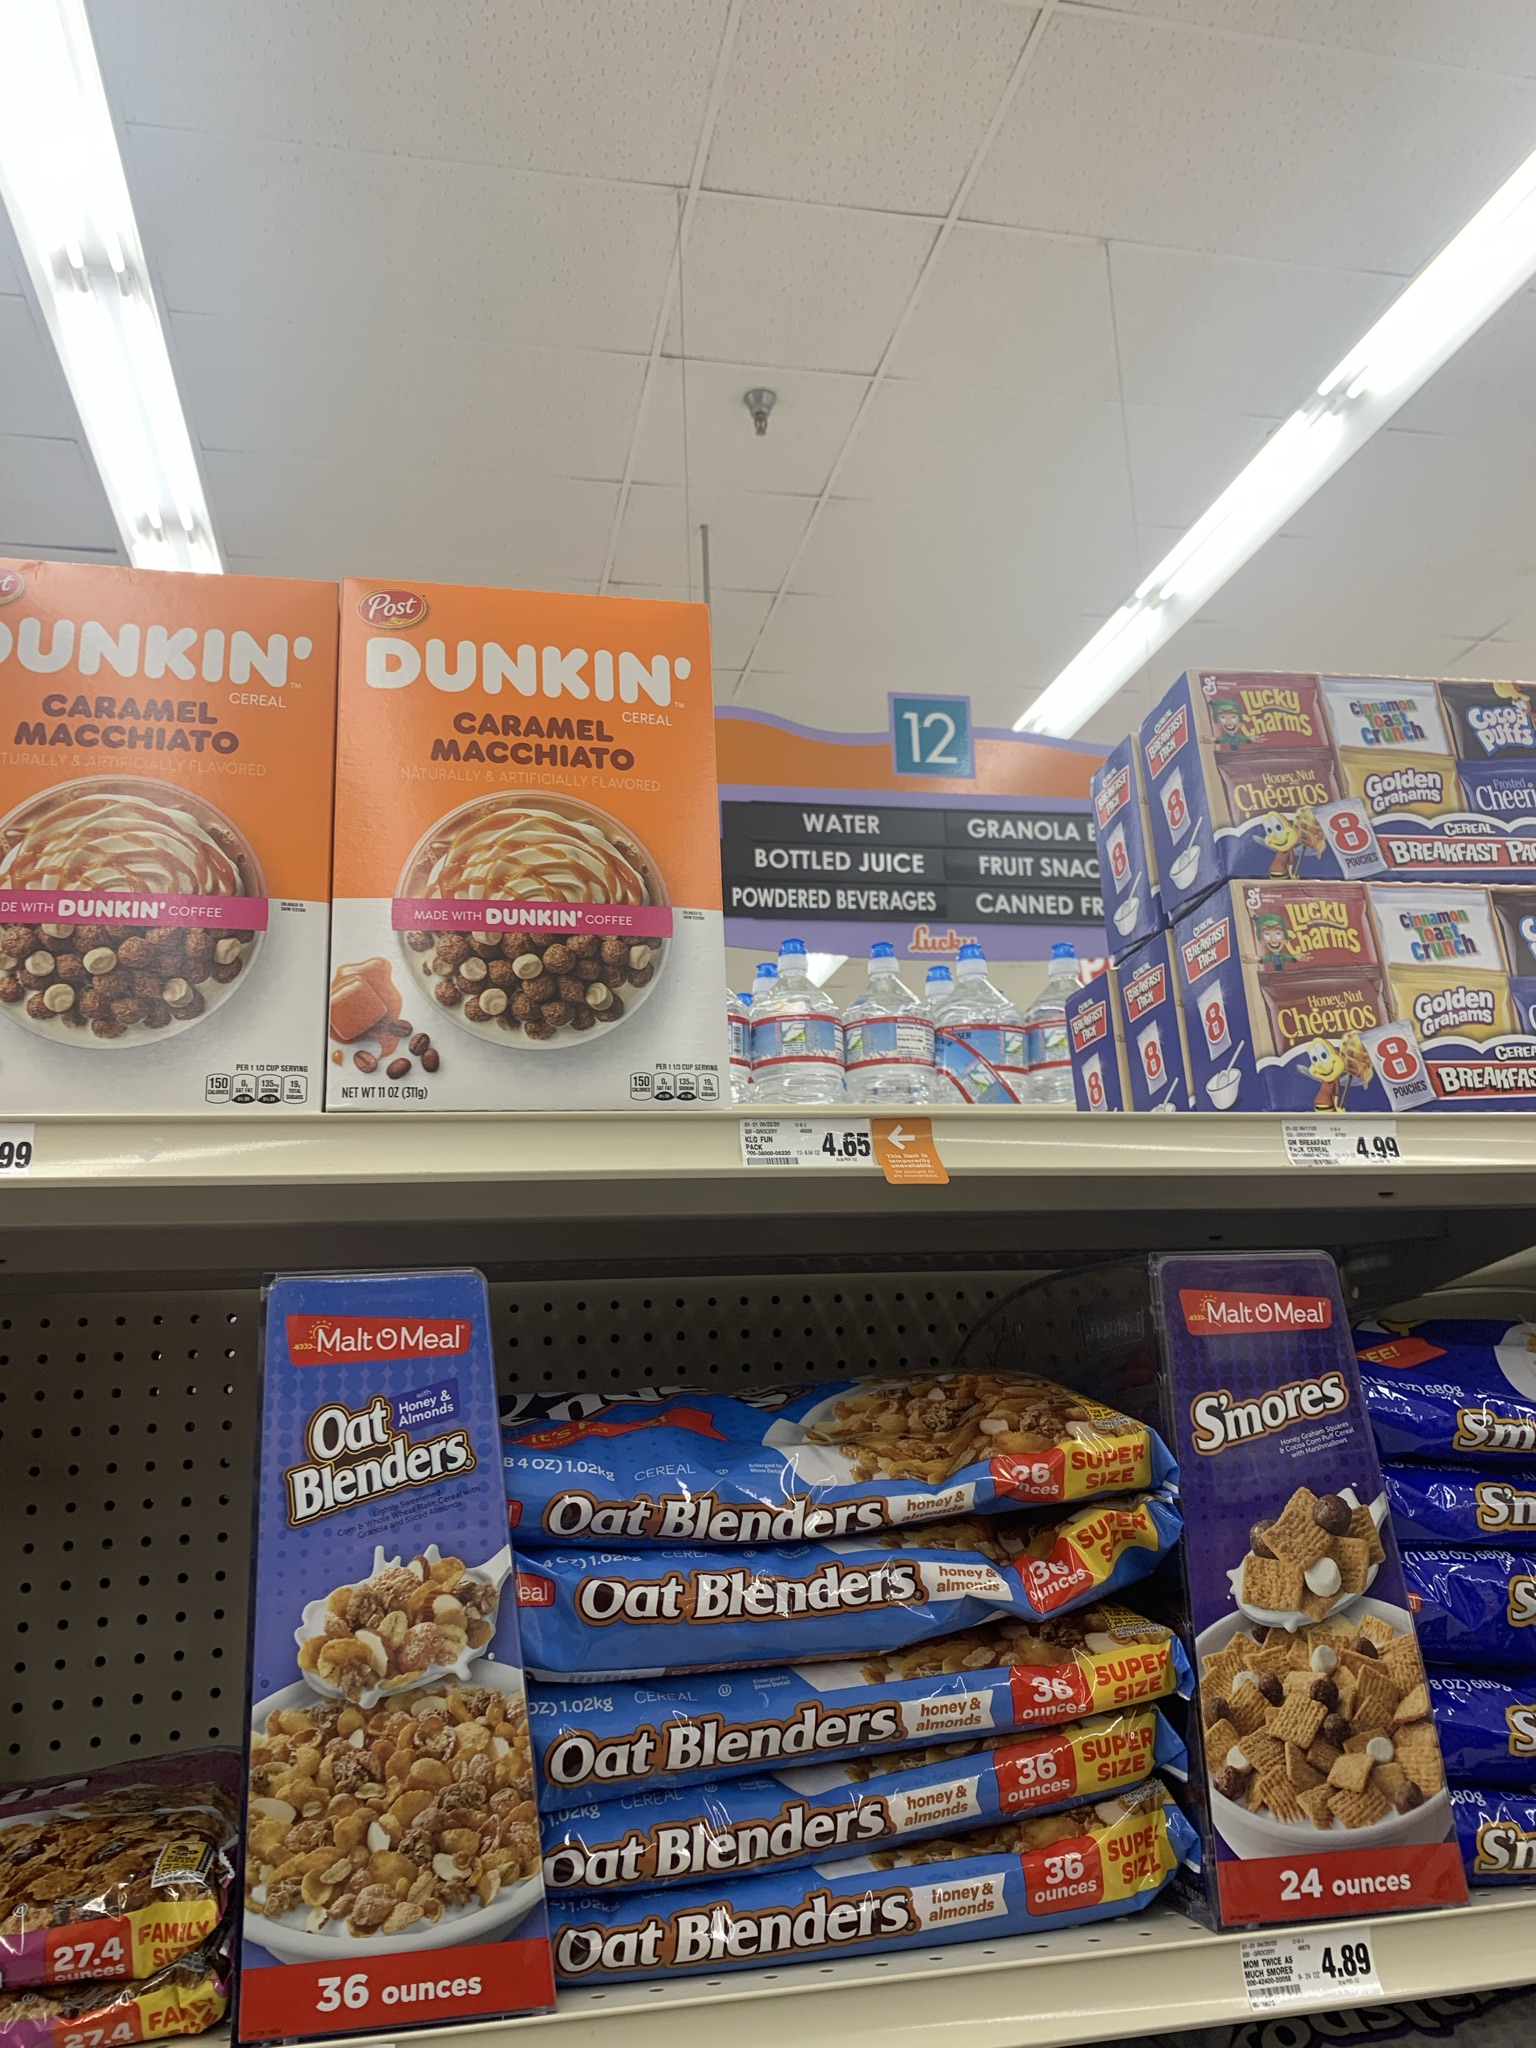Cereal: (342, 576, 715, 1109), (5, 556, 334, 1113)
